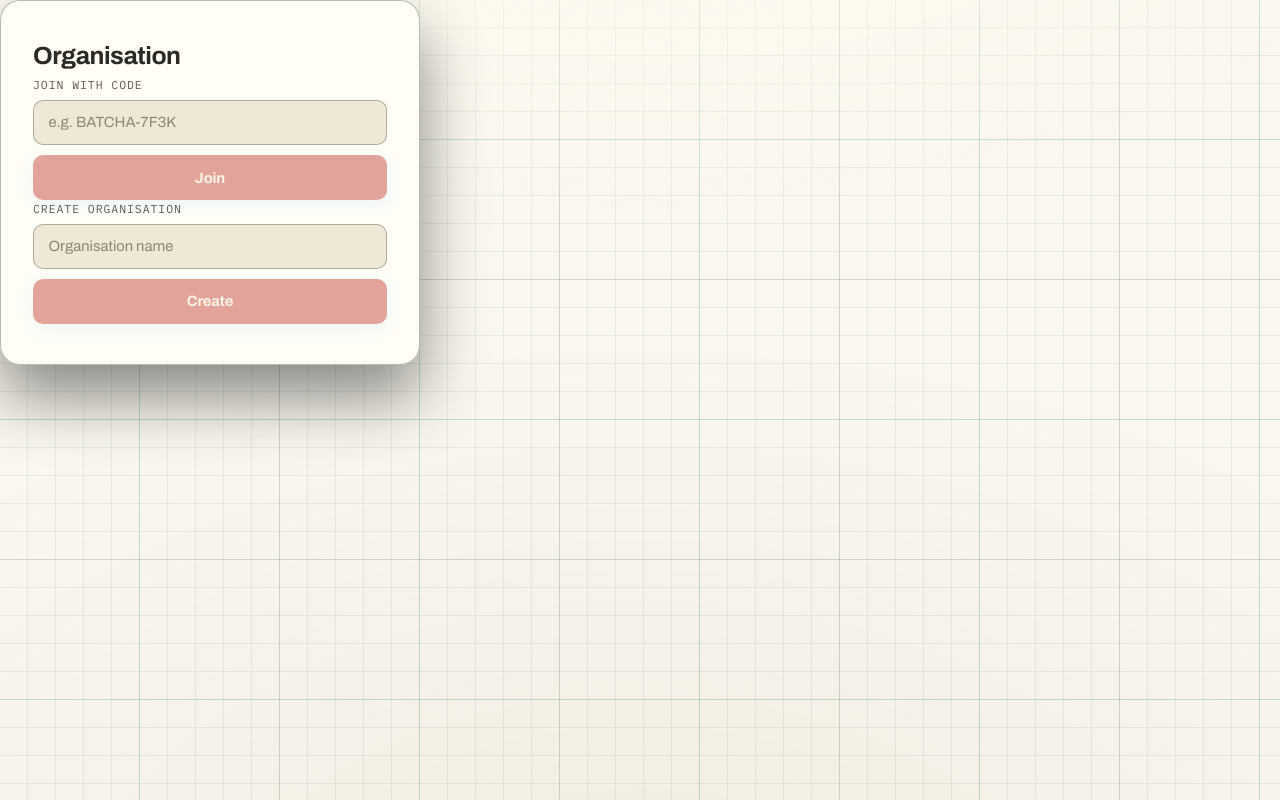
Scenario: surfaces join errors
Type "BAD-CODE" into the field labelled "Join with code" at (210, 122), box [33,100,387,145]
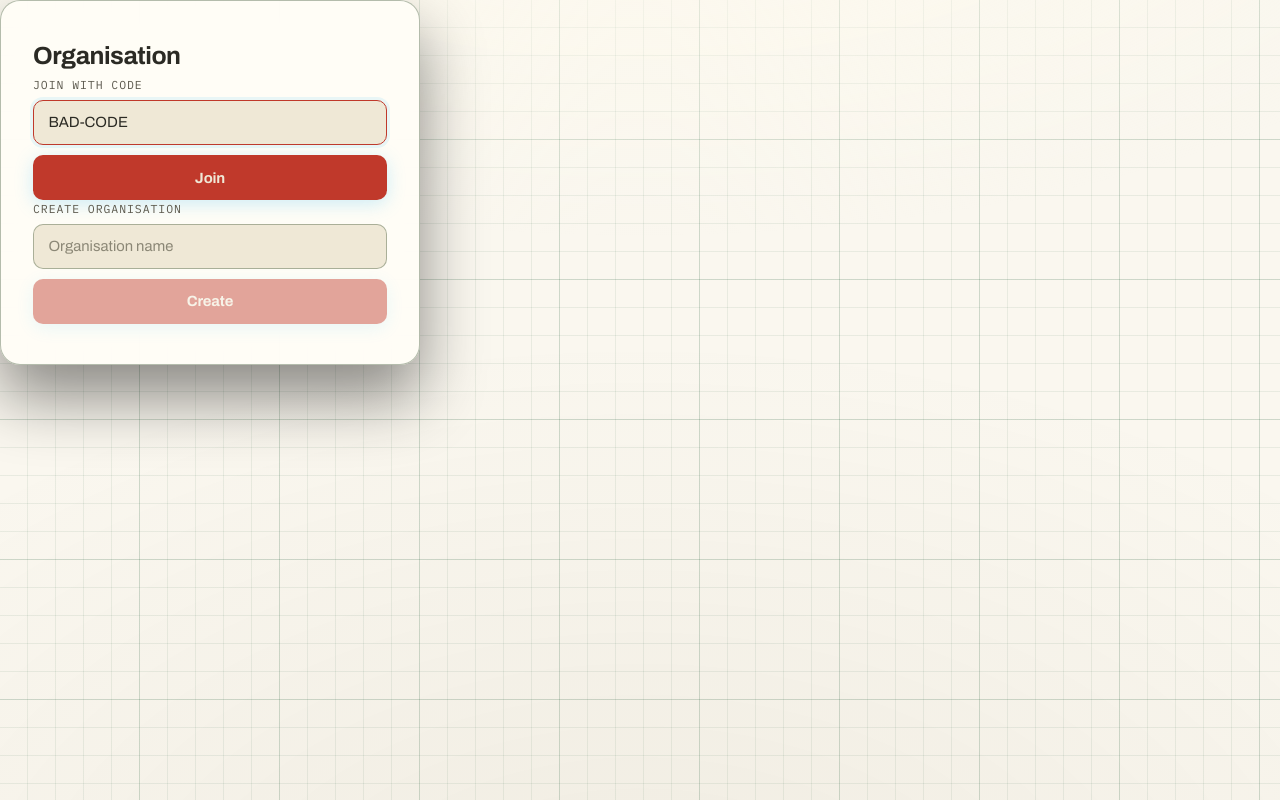
Click the button "Join" at (210, 178), box [33,155,387,200]
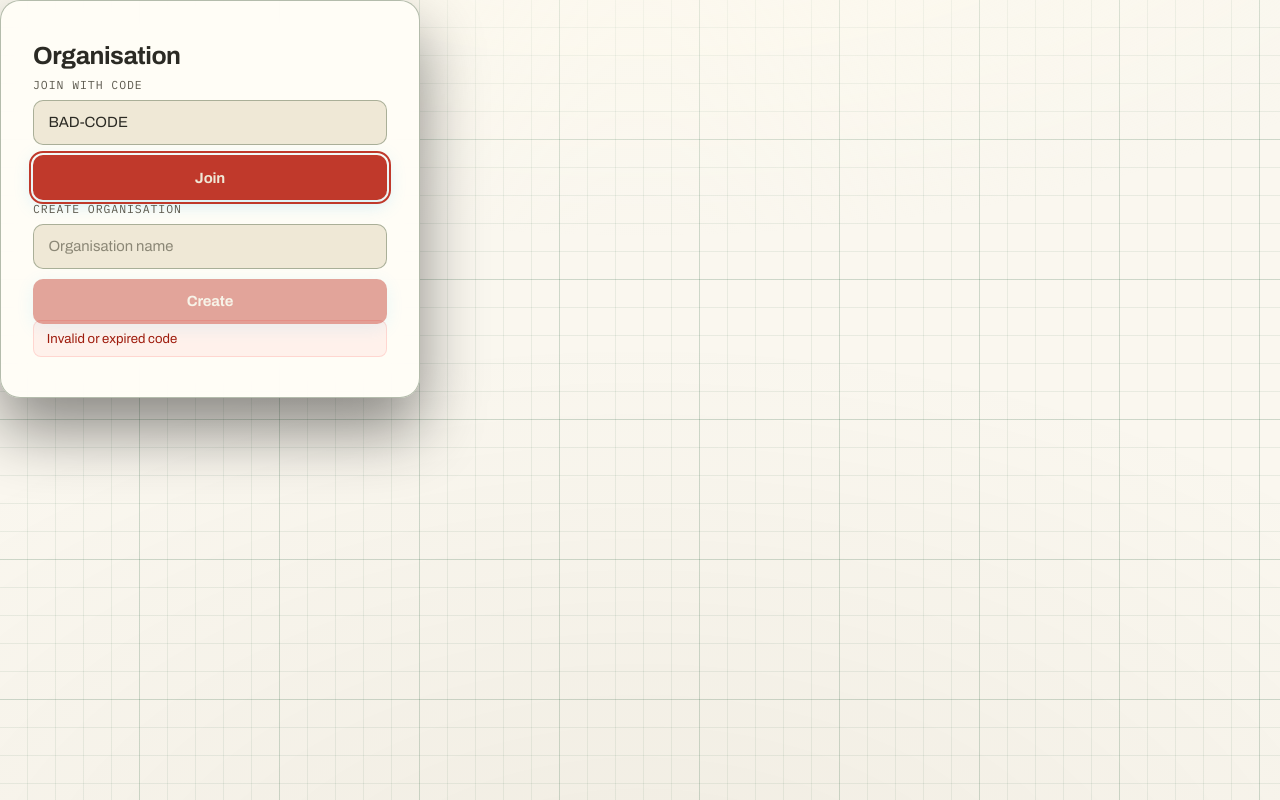
Now the text "Invalid or expired code" is shown, box [33,320,387,357]
